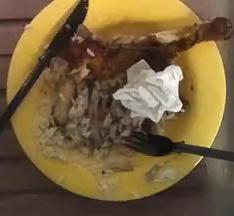chicken: (58, 17, 232, 83)
unknown: (30, 60, 131, 167)
